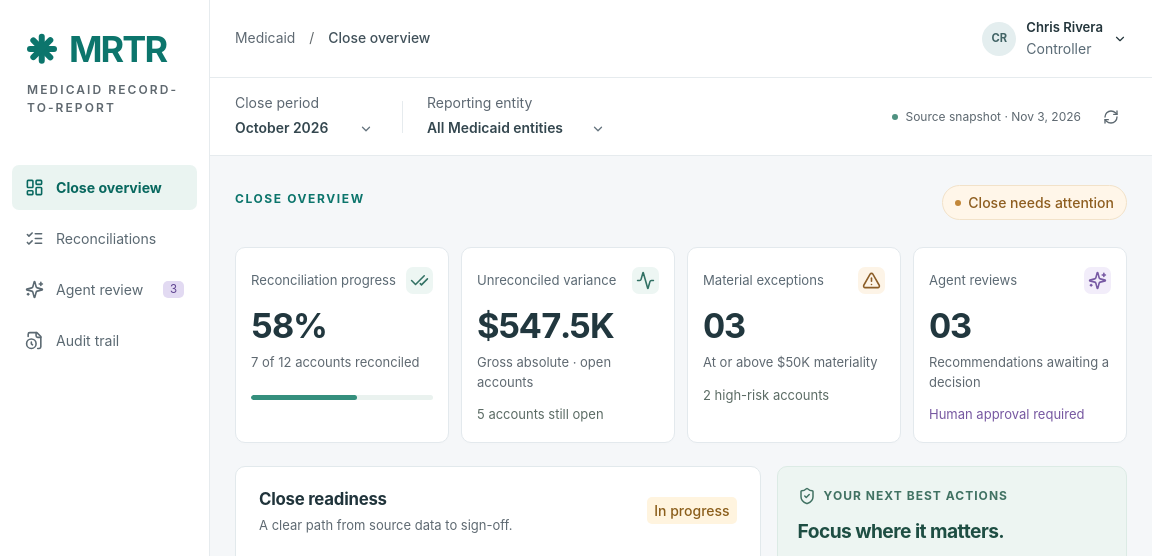
Test: Controller workflow › provides a recoverable empty search result
expect the element named "Close summary" is shown: met, box left=235, top=247, right=1127, bottom=442
Click the button "Reconciliations".
click(104, 238)  # box left=12, top=216, right=197, bottom=261
(page scrolled)
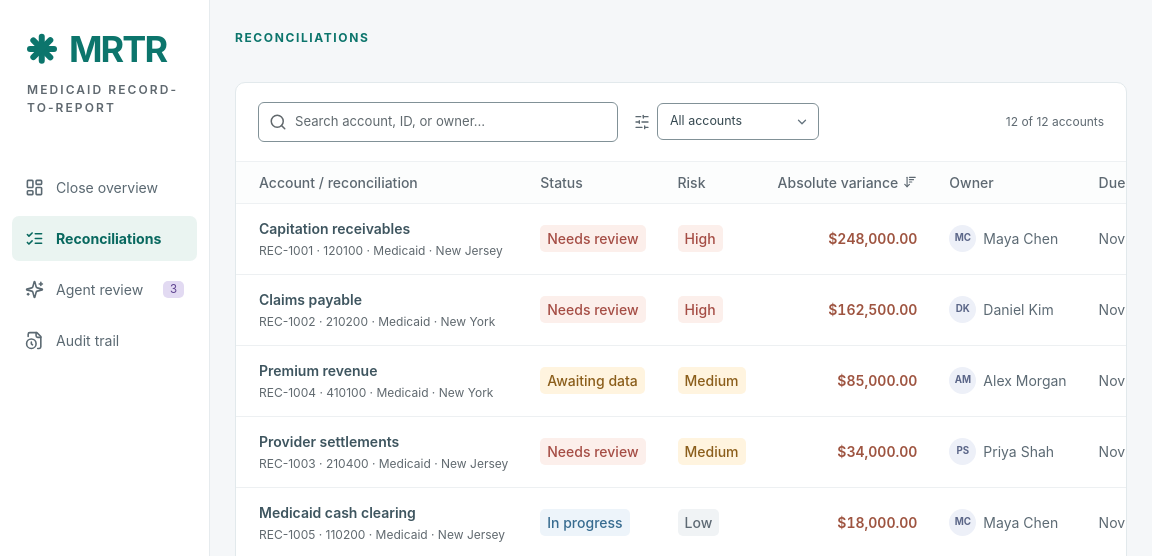
Type "not-an-account" into the field named "Search reconciliations".
click(451, 122); type("not-an-account")  # box left=295, top=110, right=607, bottom=134
(page scrolled)
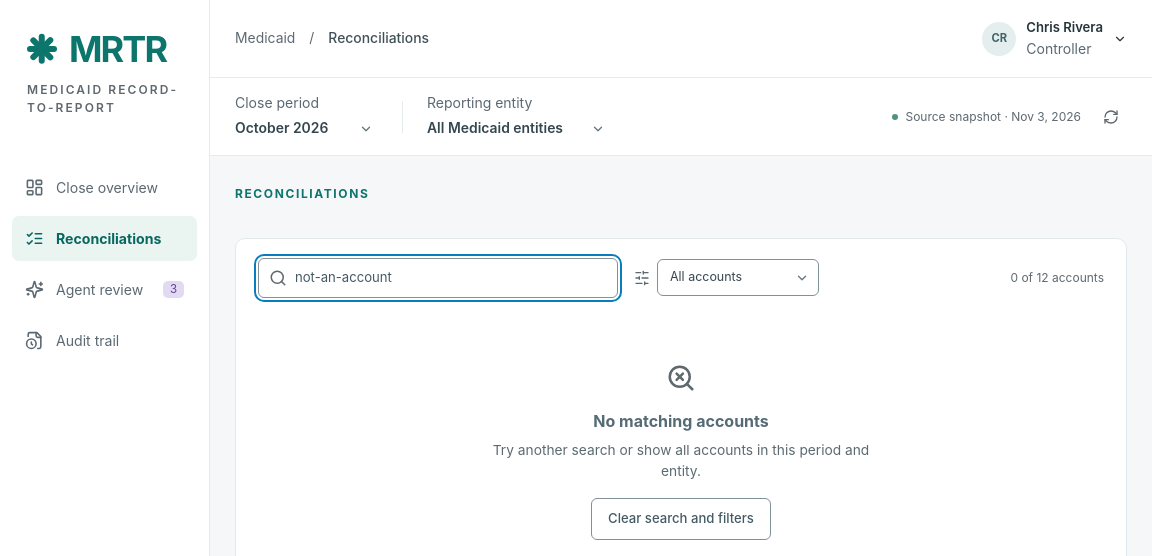
expect the heading "No matching accounts" is shown: met, box left=593, top=409, right=769, bottom=433
Click the button "Clear search and filters".
click(681, 519)  # box left=591, top=498, right=771, bottom=540
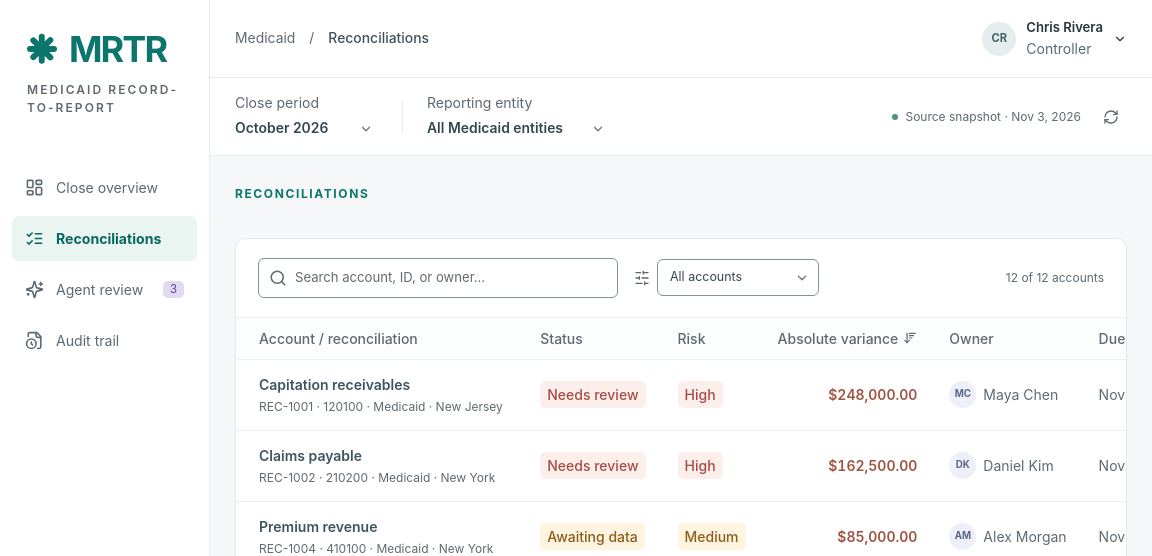
expect the message named "Reconciliation result count" reads "12 of 12 accounts": met, box left=1006, top=269, right=1104, bottom=287
